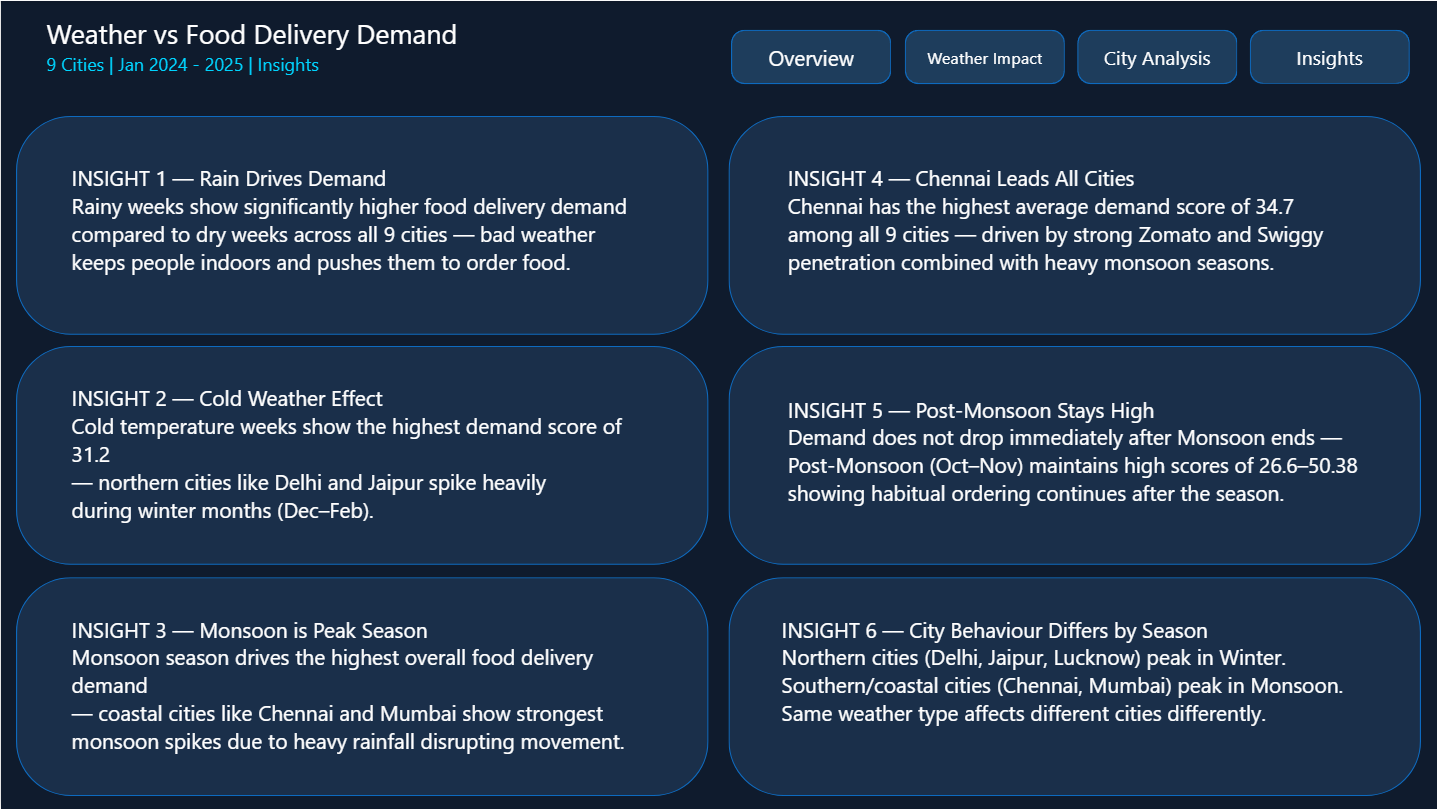

This screenshot's page, from the dashboard's own definition file:
{"tool":"powerbi","page":{"name":"Insights","canvas":[1280,720],"ordinal":3},"visuals":[{"type":"shape","box":[13.4,513.2,616.7,194.8],"z":0},{"type":"shape","box":[647.9,513.2,616.7,194.8],"z":1000},{"type":"shape","box":[647.9,307.2,616.7,194.8],"z":2000},{"type":"shape","box":[647.9,102.4,616.7,194.8],"z":3000},{"type":"shape","box":[13.4,307.2,616.7,194.8],"z":4000},{"type":"shape","box":[13.4,102.4,616.7,194.8],"z":5000},{"type":"actionButton","title":"Over","box":[650.4,26.1,142.7,48.4],"z":6000},{"type":"actionButton","title":"Over","box":[804.4,26.1,142.7,48.4],"z":7000},{"type":"actionButton","title":"Over","box":[958.3,26.1,142.7,48.4],"z":8000},{"type":"actionButton","title":"Over","box":[1112.6,26,142.6,48.4],"z":9000},{"type":"textbox","box":[57.9,140.3,527.6,119.1],"z":10000},{"type":"textbox","box":[57.9,336.2,527.6,138],"z":11000},{"type":"textbox","box":[57.9,542.1,527.6,165.9],"z":12000},{"type":"textbox","box":[695.7,140.3,527.6,119.1],"z":13000},{"type":"textbox","box":[695.7,346.2,546.6,119.1],"z":14000},{"type":"textbox","box":[690.2,542.1,537.7,126.9],"z":15000},{"type":"textbox","box":[35.6,7.8,433,113.5],"z":15001}]}

Visuals, with their boxes in screenshot pixels (x1, y1, x2, y2), scaled from the page's 1280x720 canvas onto the 1437x809 screenshot:
shape: rect(15, 577, 707, 796)
shape: rect(727, 577, 1420, 796)
shape: rect(727, 345, 1420, 564)
shape: rect(727, 115, 1420, 334)
shape: rect(15, 345, 707, 564)
shape: rect(15, 115, 707, 334)
"Over" actionButton: rect(730, 29, 890, 84)
"Over" actionButton: rect(903, 29, 1063, 84)
"Over" actionButton: rect(1076, 29, 1236, 84)
"Over" actionButton: rect(1249, 29, 1409, 84)
textbox: rect(65, 158, 657, 291)
textbox: rect(65, 378, 657, 533)
textbox: rect(65, 609, 657, 796)
textbox: rect(781, 158, 1373, 291)
textbox: rect(781, 389, 1395, 523)
textbox: rect(775, 609, 1379, 752)
textbox: rect(40, 9, 526, 136)
